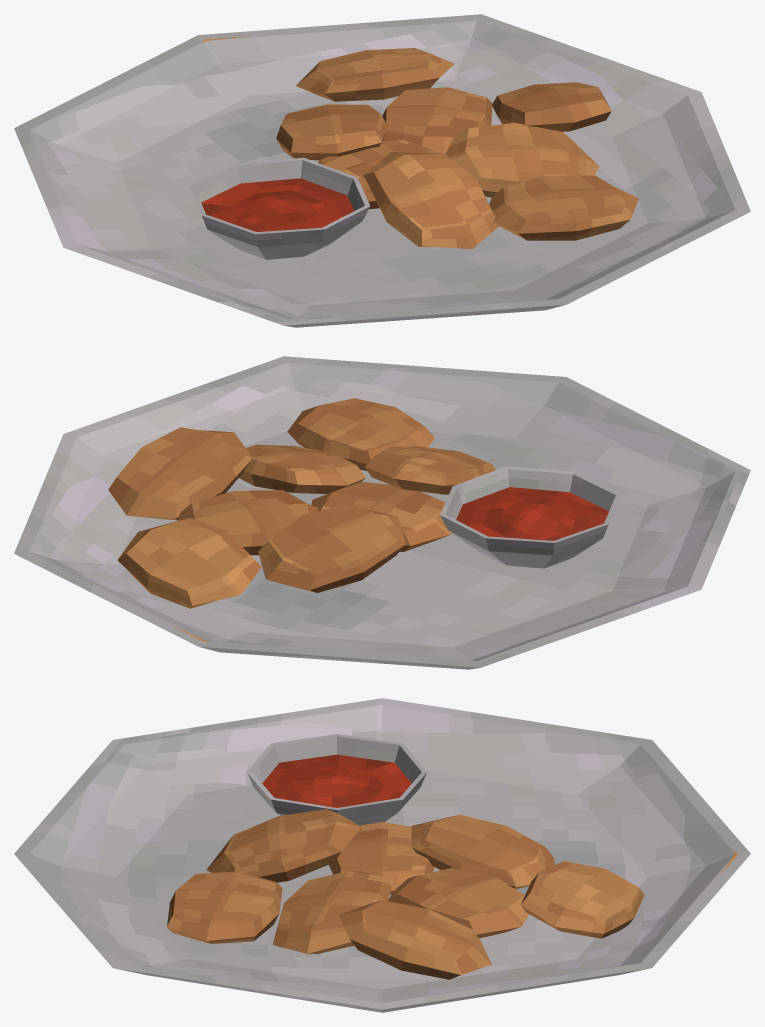
Rendered from Nugget.fbx.
3 renders of one model, top to bottom at view 1: azimuth 30°, elevation 25°; view 2: azimuth 150°, elevation 25°; view 3: azimuth 270°, elevation 25°, orthographic.
Parts seen in each view (by area): view 1: Cube.002; view 2: Cube.002; view 3: Cube.002.
Part boxes in pixels (x1,y1,x2,y2): Cube.002: [14, 14, 750, 327]; Cube.002: [14, 356, 750, 669]; Cube.002: [14, 698, 750, 1012].
Size of the model in its own units: 363 by 37.83 by 363.
Materials: 1 (1 with a texture image).
